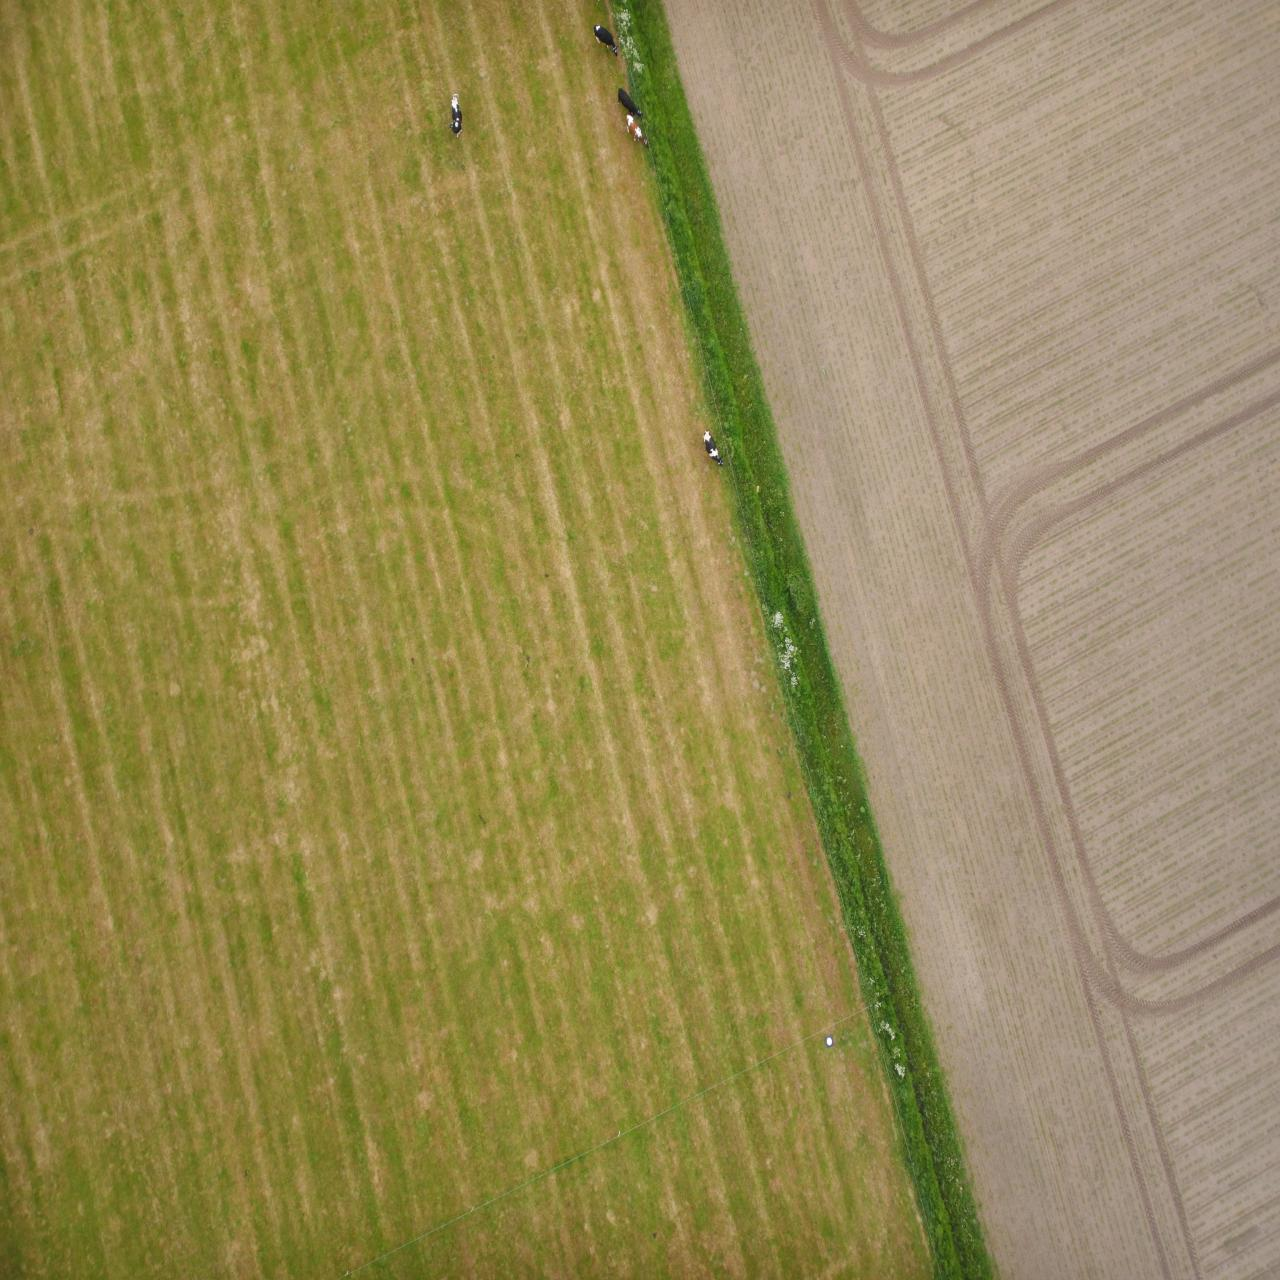cow: (629, 1131, 653, 1166), (661, 1224, 687, 1255), (636, 1163, 662, 1193), (557, 812, 577, 850), (817, 1143, 830, 1186)
